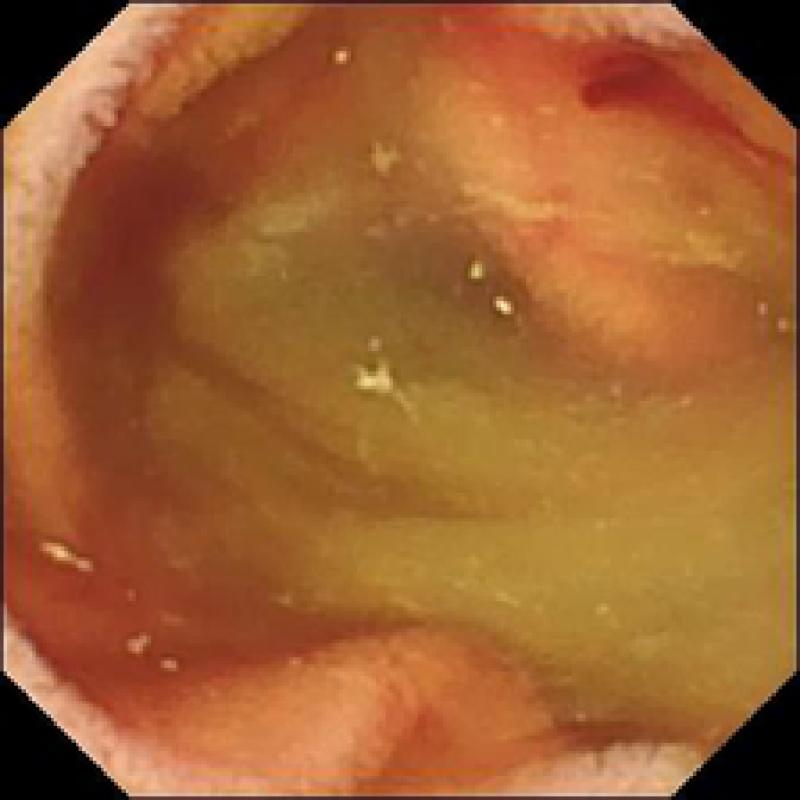bleeding: (20, 530, 427, 708), (568, 36, 800, 178)
